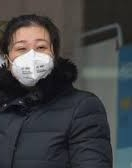with_mask: (2, 13, 66, 93)
